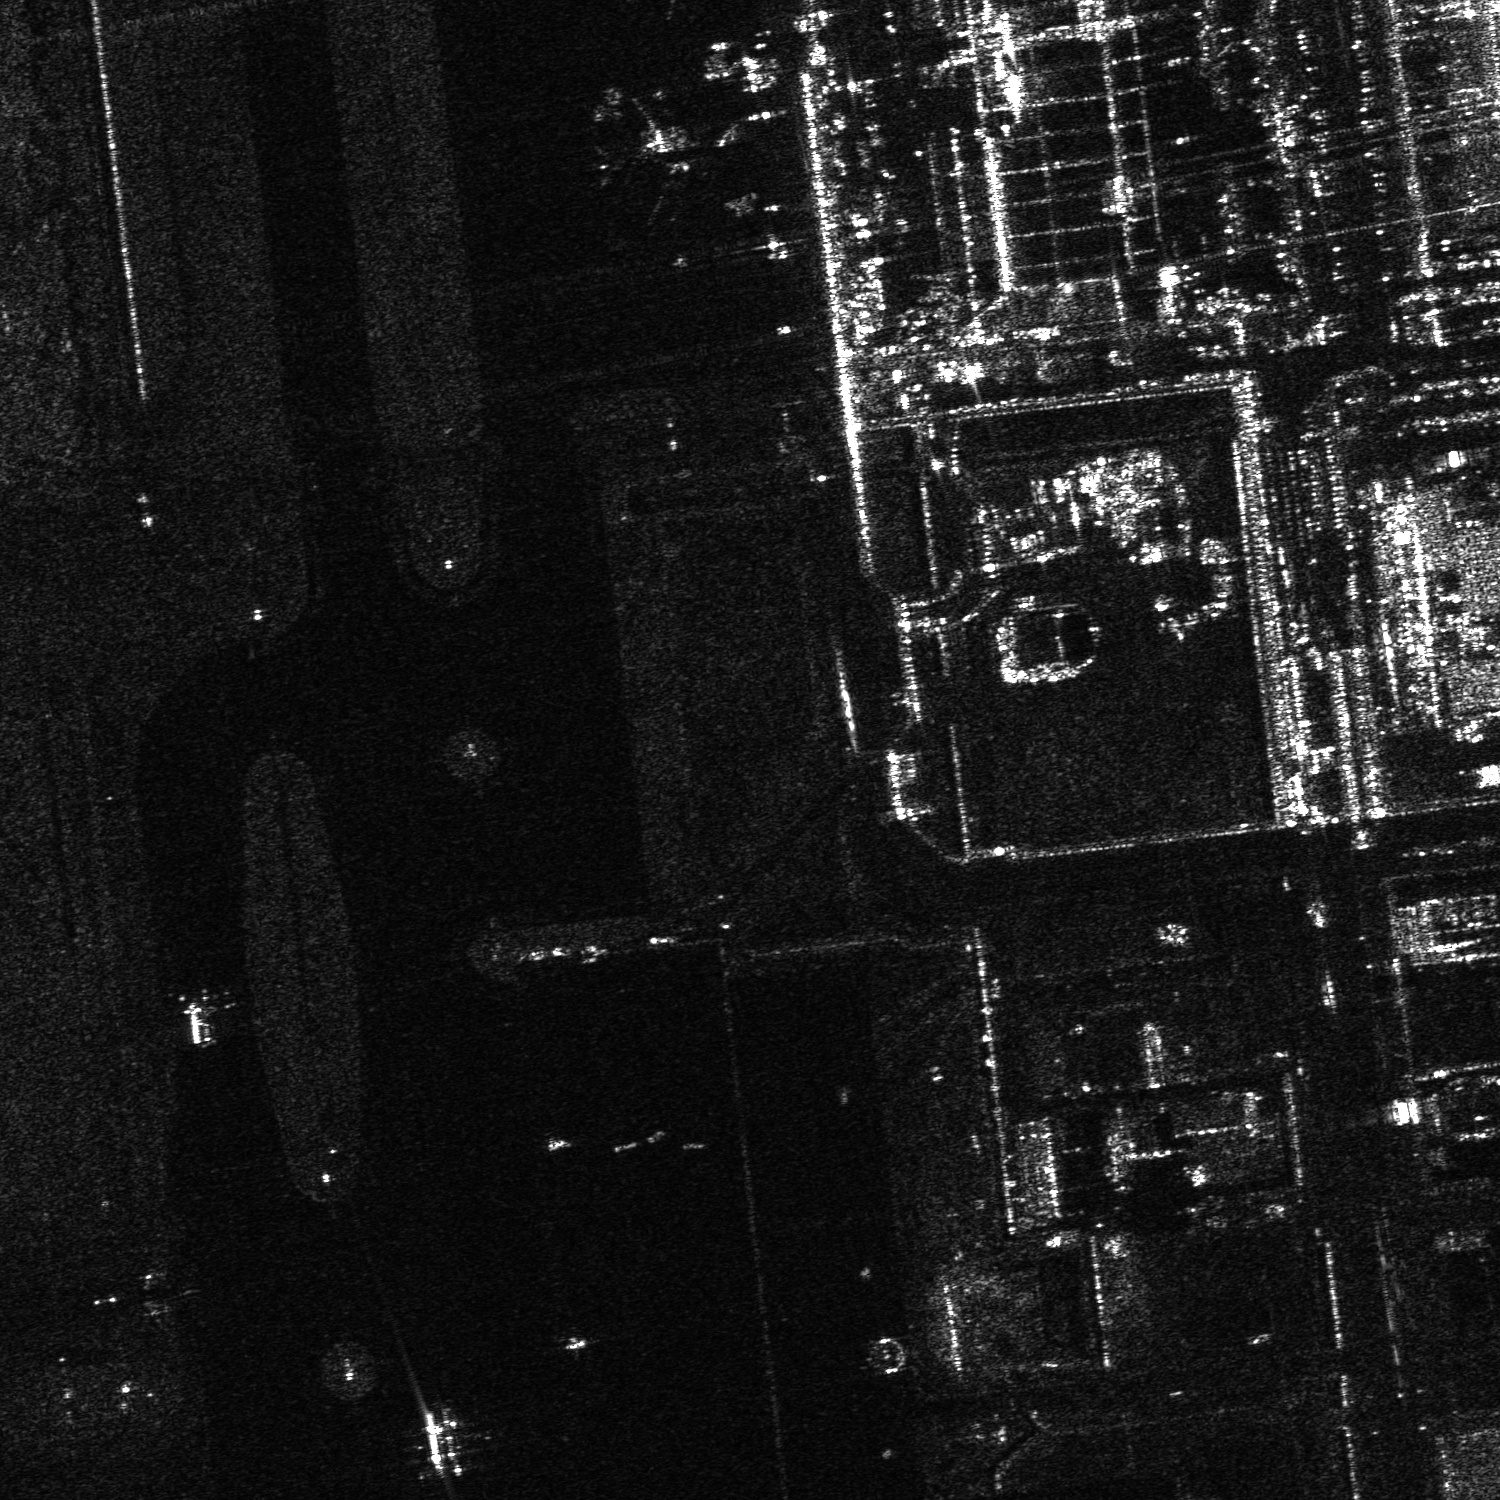Boeing787: (578, 98, 718, 232)
